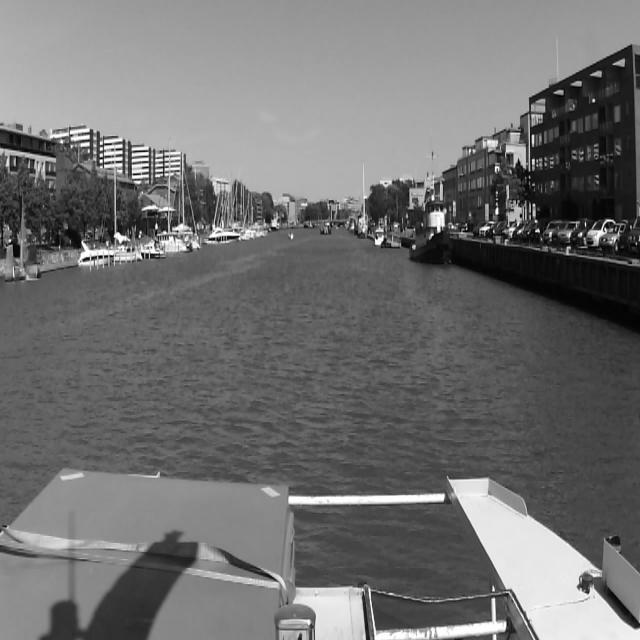ship: (409, 151, 455, 265), (114, 146, 138, 261), (77, 241, 114, 267), (358, 164, 368, 238), (206, 227, 240, 245), (142, 239, 166, 259), (374, 226, 386, 246), (319, 220, 332, 236), (288, 233, 294, 240)
